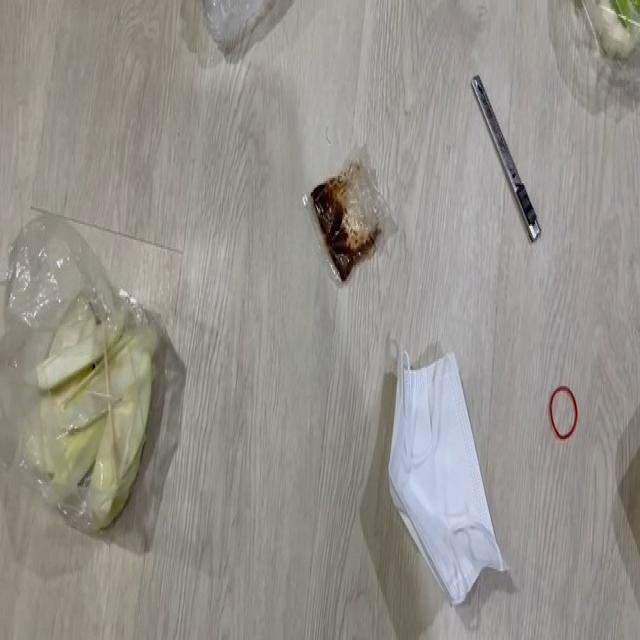Anorganik: (453, 78, 558, 241), (185, 1, 286, 70), (545, 386, 585, 446)
B3: (18, 290, 163, 540), (380, 341, 504, 598), (293, 131, 395, 295)
